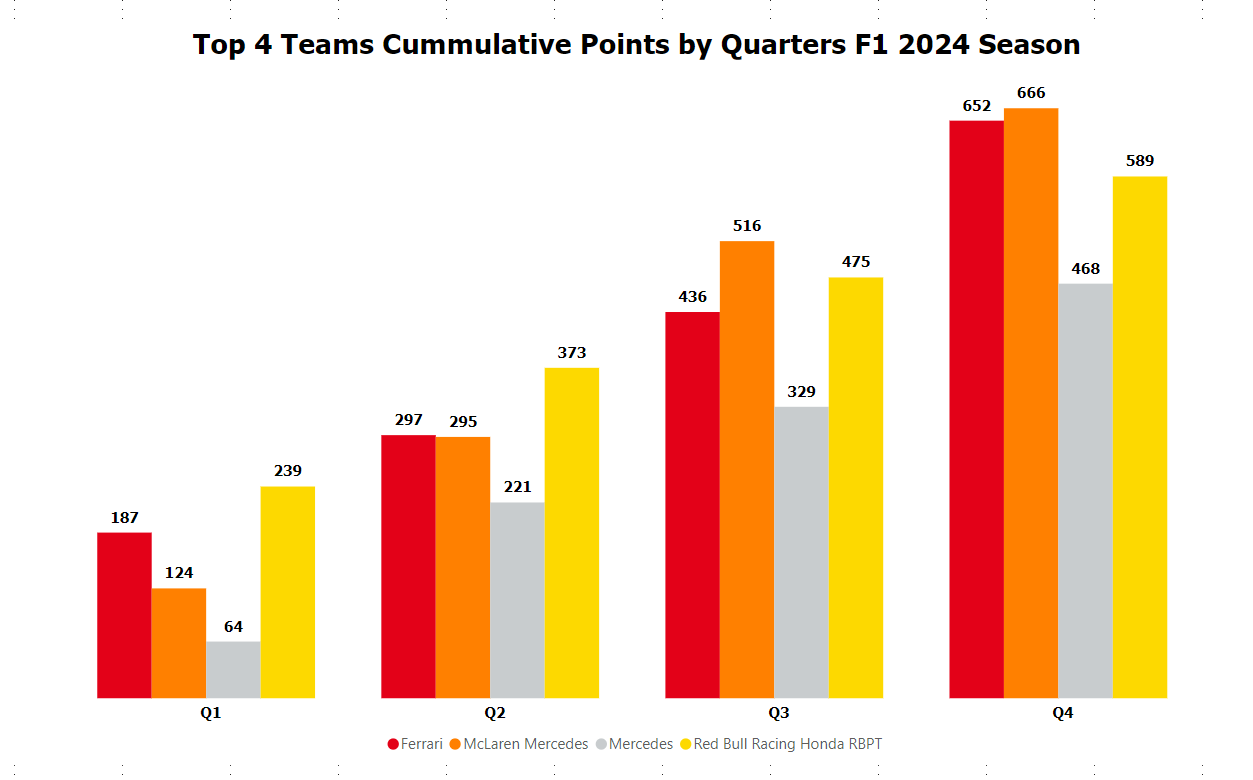

What the dashboard file says about the page in this screenshot:
{"tool":"powerbi","page":{"name":"Page 4","canvas":[1280,720],"ordinal":3},"visuals":[{"type":"clusteredColumnChart","title":"Top 4 Teams Cummulative Points by Quarters F1 2024 Season","fields":{"Y":["Sum(Quarters Points.Cummulative Points)"],"Category":["Quarters Points.Quarters"],"Series":["Quarters Points.Teams"]},"box":[64,39.1,1171.6,656.9],"z":0}]}

Visuals, with their boxes on the page's 1280x720 design canvas (x1, y1, x2, y2). These are canvas units, not pixel positions in the 1253x780 screenshot, which may show the page scaled, cropped or inside an application window:
"Top 4 Teams Cummulative Points by Quarters F1 2024 Season" clusteredColumnChart: bbox(64, 39, 1236, 696)
